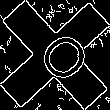O_SW: (22, 22, 88, 88)
